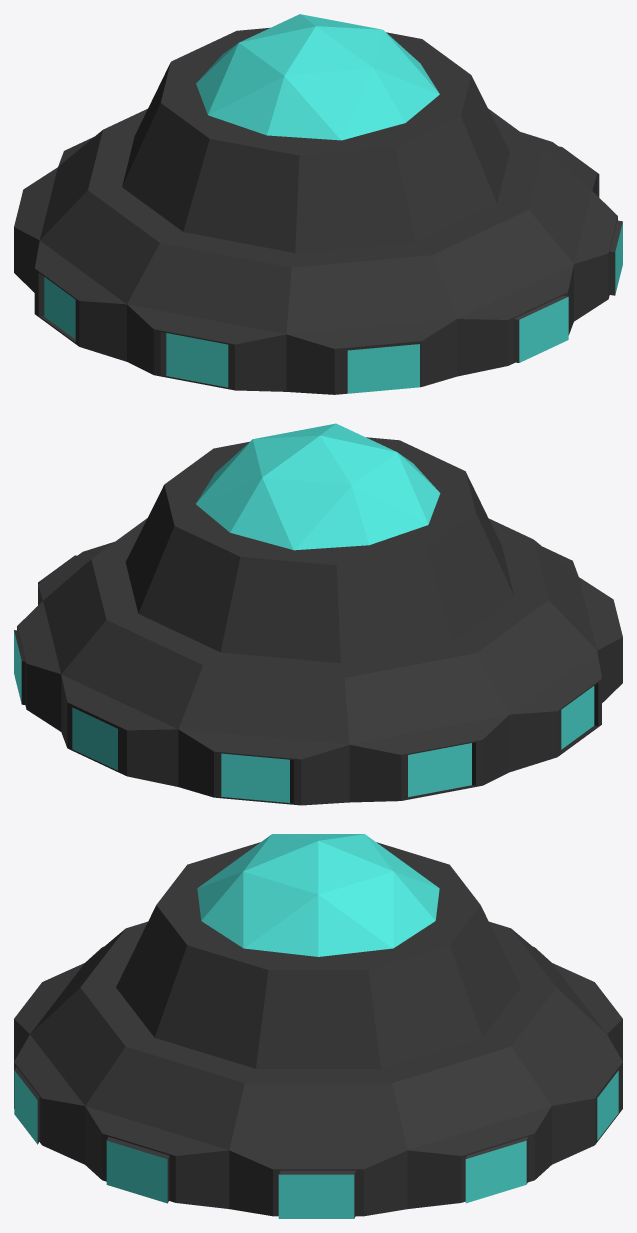
Rendered from UFO2.fbx.
3 views of the same model, one above another, from view 1: azimuth 30°, elevation 25°; view 2: azimuth 150°, elevation 25°; view 3: azimuth 270°, elevation 25° (orthographic). The views are drawn at different scales.
Visible parts, largest first — view 1: Cylinder; view 2: Cylinder; view 3: Cylinder.
Boxes of the visible parts, x1,y1,x2,y2 form: Cylinder: (14,14,622,394); Cylinder: (14,423,622,805); Cylinder: (14,834,622,1218).
Bounding box in the file's own units: 280 × 137 × 277.
